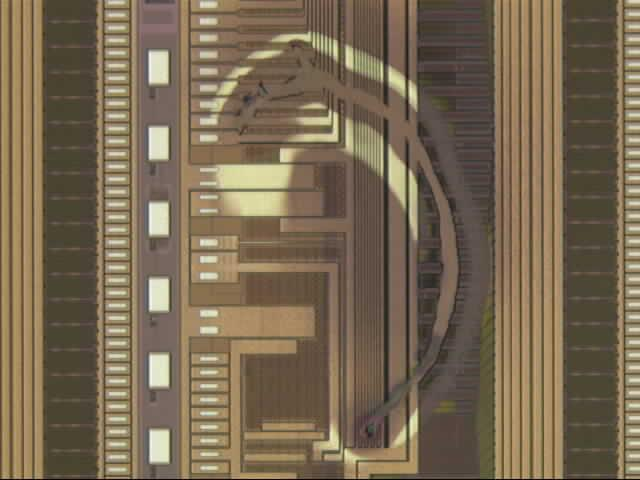BLOCK ETCH: (206, 25, 497, 477)
